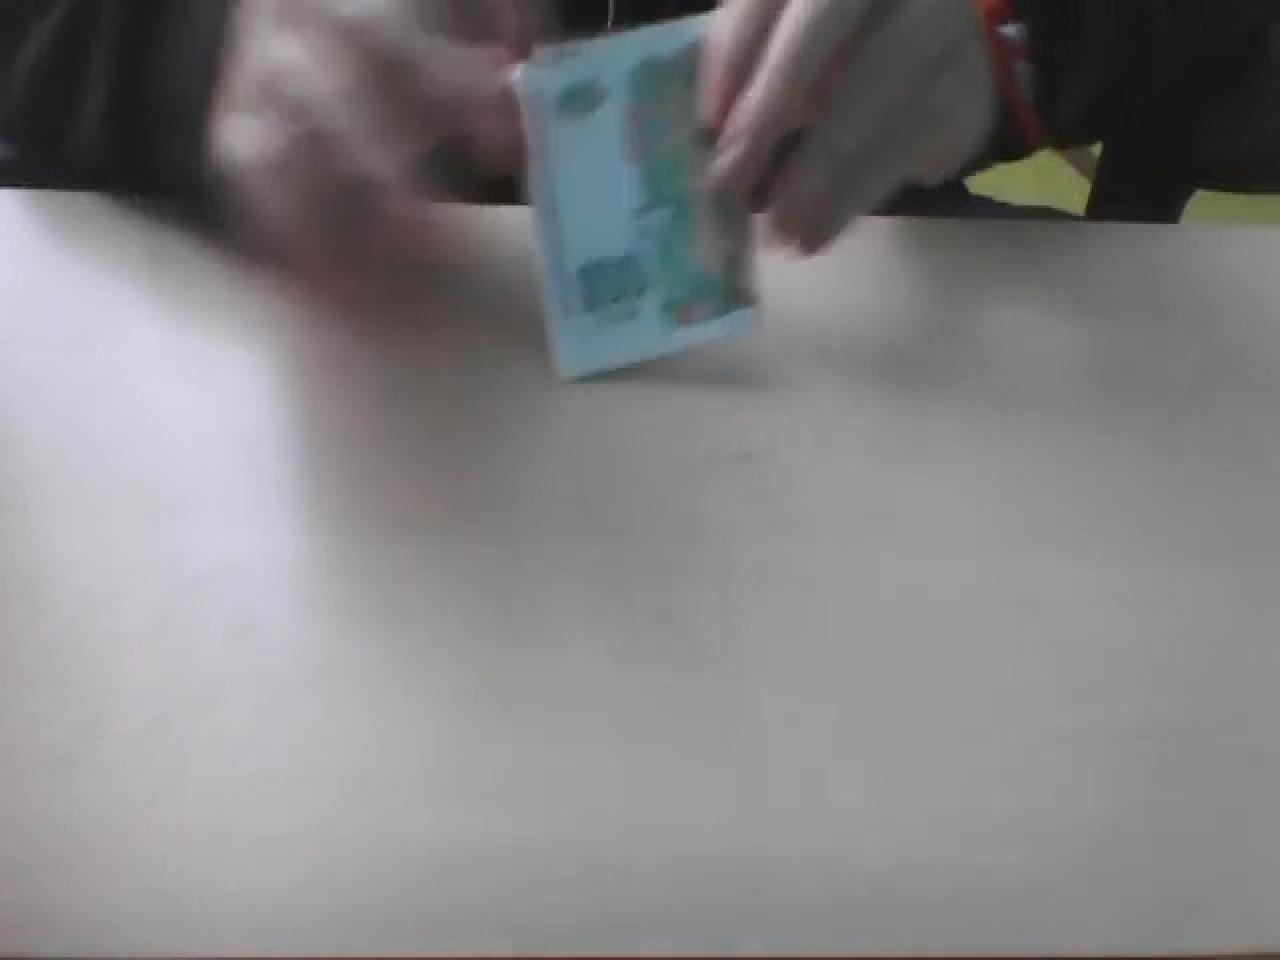100leva: (512, 16, 762, 384)
